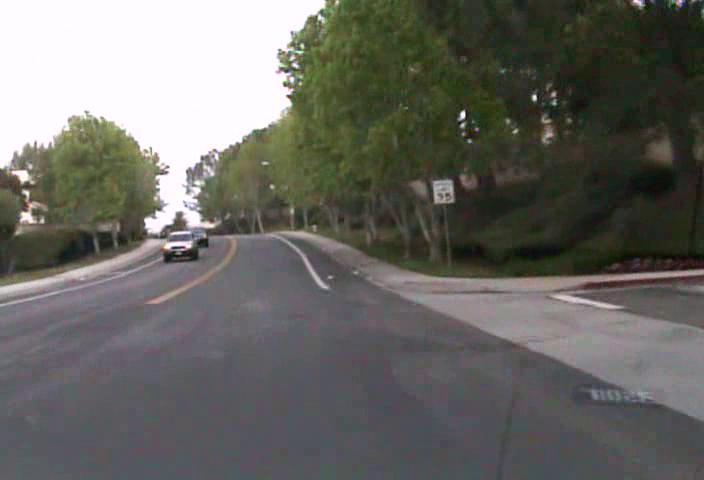speedLimit35: (431, 178, 455, 205)
